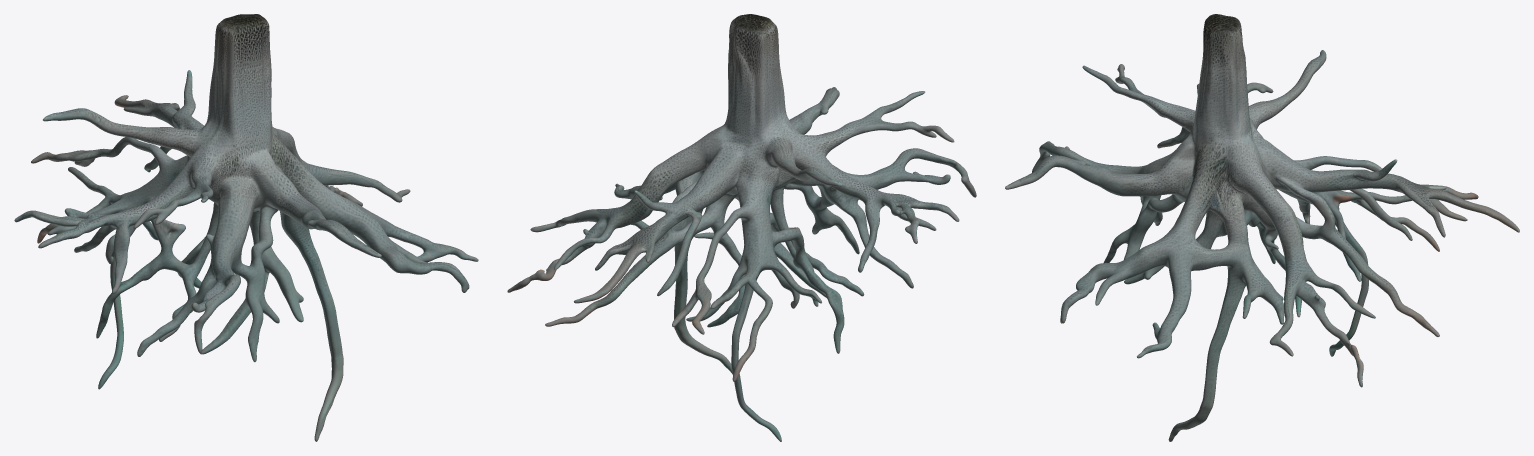
File: Raiz.glb
The picture shows the model from 3 angles, left to right: view 1: azimuth 30°, elevation 25°; view 2: azimuth 150°, elevation 25°; view 3: azimuth 270°, elevation 25°; orthographic projection. The views are drawn at different scales.
Visible parts, largest first — view 1: tripo_node_253bc469-0213-4976-91f2-1ab884835e2d; view 2: tripo_node_253bc469-0213-4976-91f2-1ab884835e2d; view 3: tripo_node_253bc469-0213-4976-91f2-1ab884835e2d.
Part boxes in pixels (x1,y1,x2,y2): tripo_node_253bc469-0213-4976-91f2-1ab884835e2d: (14, 14, 478, 441); tripo_node_253bc469-0213-4976-91f2-1ab884835e2d: (507, 14, 976, 441); tripo_node_253bc469-0213-4976-91f2-1ab884835e2d: (1005, 14, 1519, 441).
Bounding box in the file's own units: 0.8512 × 0.8118 × 0.9453.
1 material, 1 textured.
